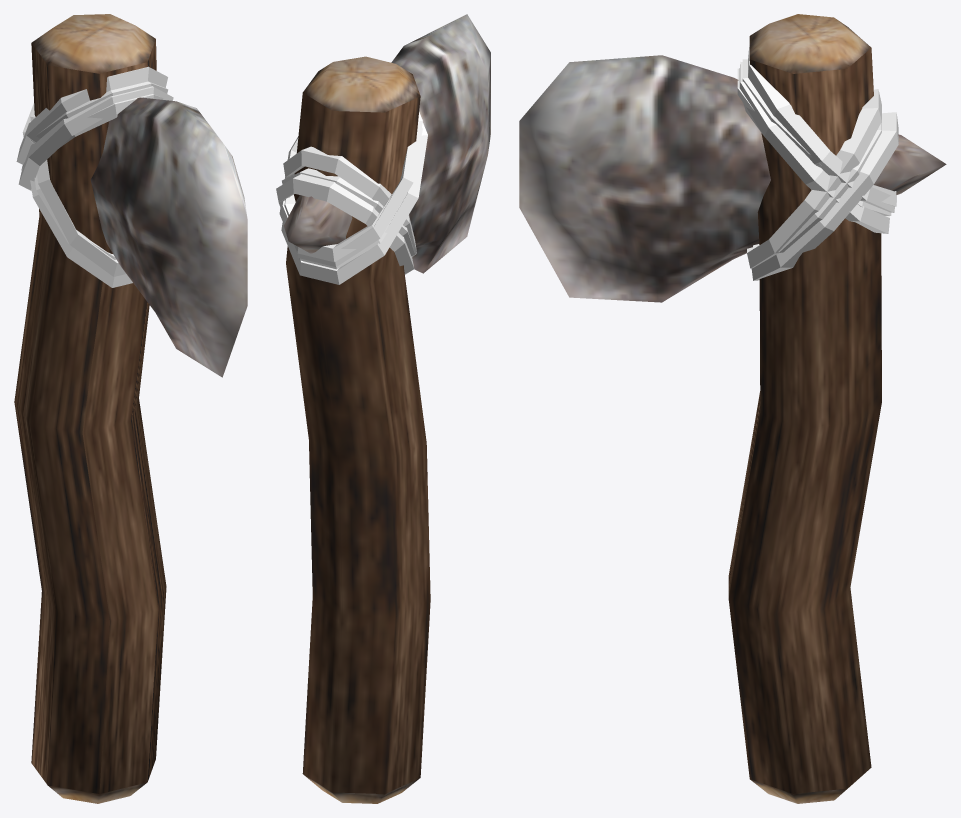
The picture shows the model from 3 angles, left to right: view 1: azimuth 30°, elevation 25°; view 2: azimuth 150°, elevation 25°; view 3: azimuth 270°, elevation 25°; orthographic projection. The views are drawn at different scales.
Visible parts, largest first — view 1: Cylinder, Cube, Torus.006_Torus.008; view 2: Cylinder, Cube, Torus.006_Torus.008; view 3: Cylinder, Cube, Torus.006_Torus.008.
Part boxes in pixels (x1=…): Cylinder: x1=14, y1=14, x2=166, y2=803; Cube: x1=90, y1=97, x2=247, y2=377; Torus.006_Torus.008: x1=16, y1=66, x2=173, y2=287; Cylinder: x1=286, y1=56, x2=430, y2=803; Cube: x1=284, y1=14, x2=490, y2=273; Torus.006_Torus.008: x1=276, y1=112, x2=427, y2=284; Cylinder: x1=728, y1=14, x2=881, y2=803; Cube: x1=519, y1=55, x2=946, y2=302; Torus.006_Torus.008: x1=737, y1=45, x2=898, y2=280.
Size of the model in its own units: 0.7326 by 3.81 by 1.96.
2 materials, 1 textured.
